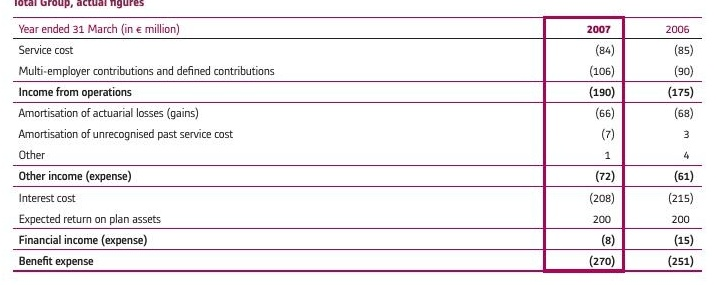table: (0, 0, 716, 285)
